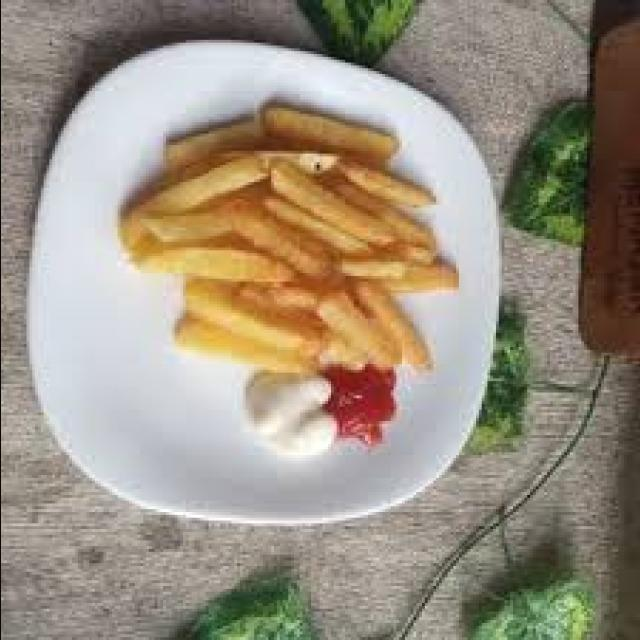kentang goreng: (122, 105, 455, 412)
